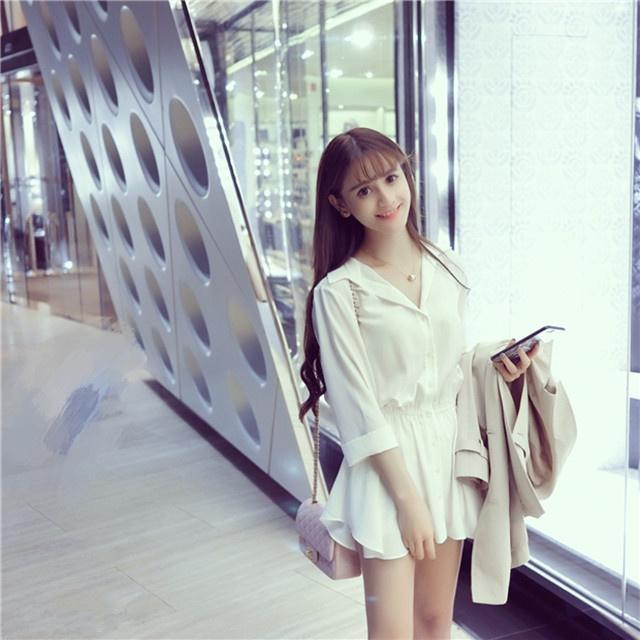long-sleeve-outwear: (282, 244, 506, 590)
